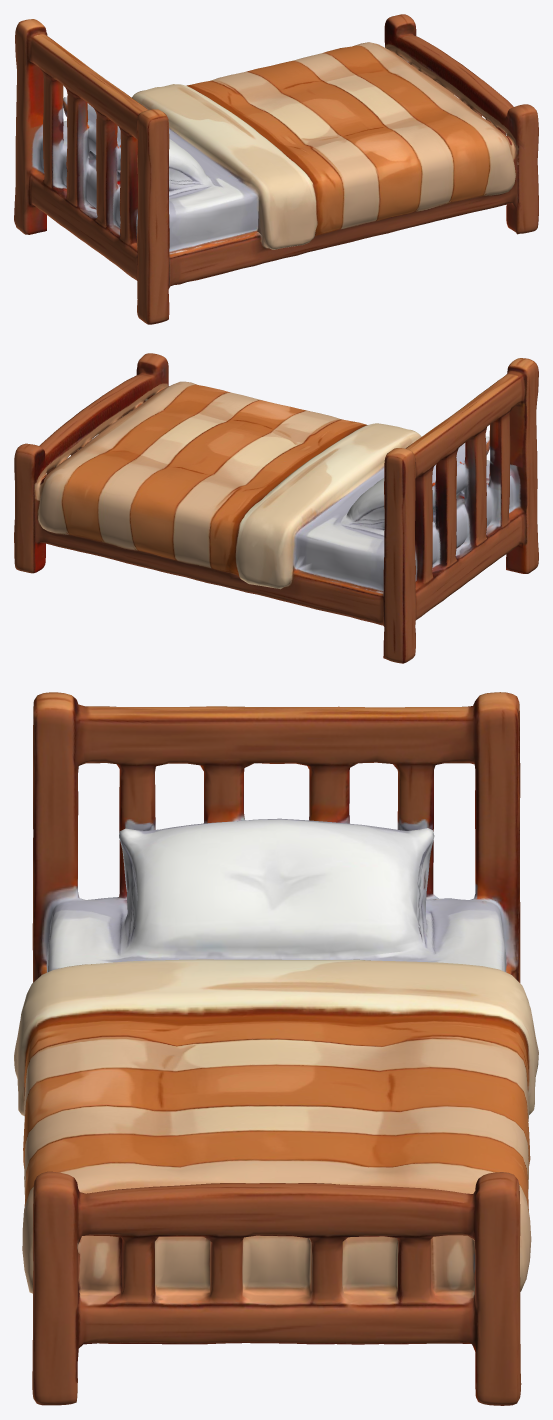
File: wooden+bed+3d+model0_basic.fbx
The picture shows the model from 3 angles, top to bottom: view 1: azimuth 30°, elevation 25°; view 2: azimuth 150°, elevation 25°; view 3: azimuth 270°, elevation 25°; orthographic projection. The views are drawn at different scales.
Parts seen in each view (by area): view 1: tripo_node_eec164ab; view 2: tripo_node_eec164ab; view 3: tripo_node_eec164ab.
Boxes of the visible parts, bbox=[...] form: tripo_node_eec164ab: bbox=[14, 14, 538, 324]; tripo_node_eec164ab: bbox=[14, 353, 538, 663]; tripo_node_eec164ab: bbox=[14, 692, 538, 1405].
Bounding box in the file's own units: 0.9996 × 0.5066 × 0.6411.
Materials: 1 (1 with a texture image).
